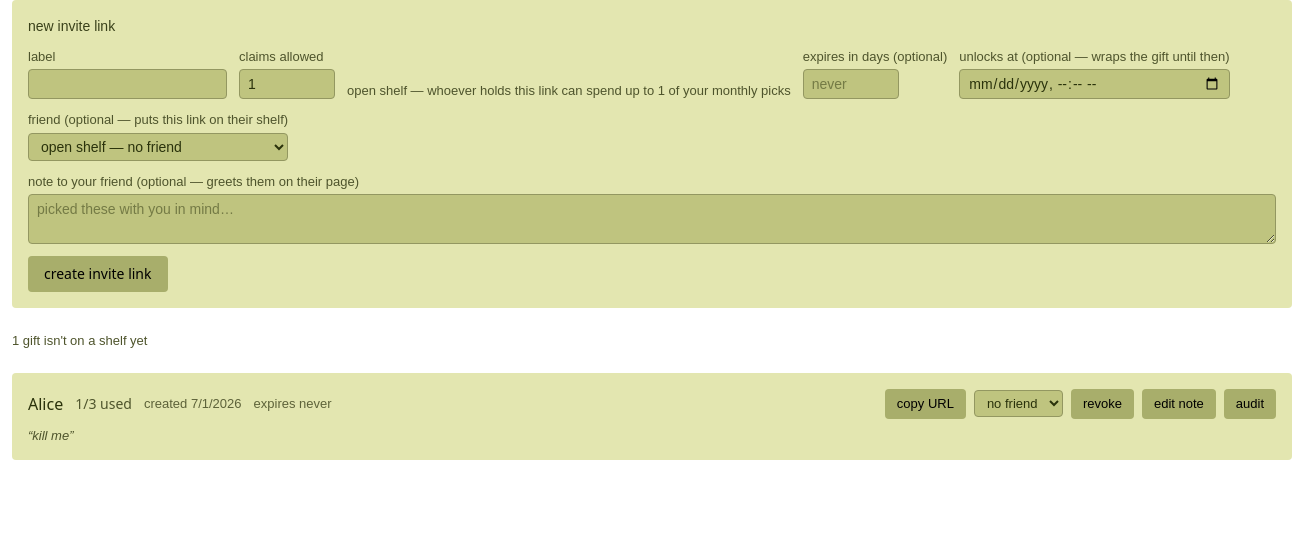
Test: Links › note editing › offers "add note" on a note-less link and a blank save clears
Click the button with aria-label "edit note for Alice": click(1179, 404) x1=1142 y1=389 x2=1216 y2=419
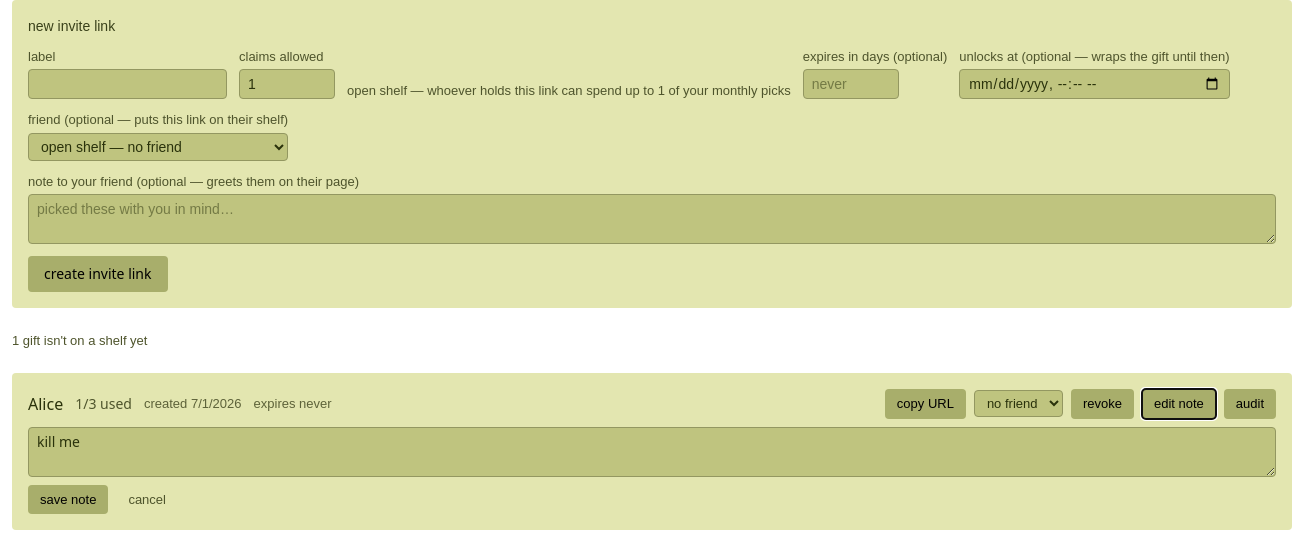
Clear the text box named "note for Alice": (652, 452) x1=28 y1=427 x2=1276 y2=477
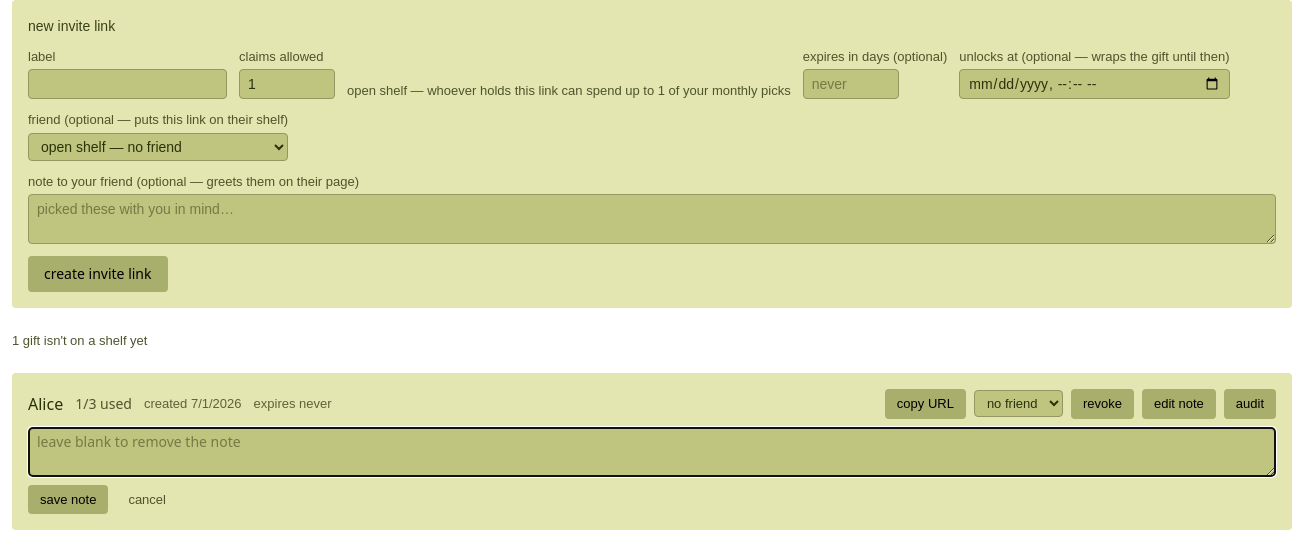
Click the button with aria-label "save note for Alice": click(68, 499) x1=28 y1=485 x2=108 y2=514
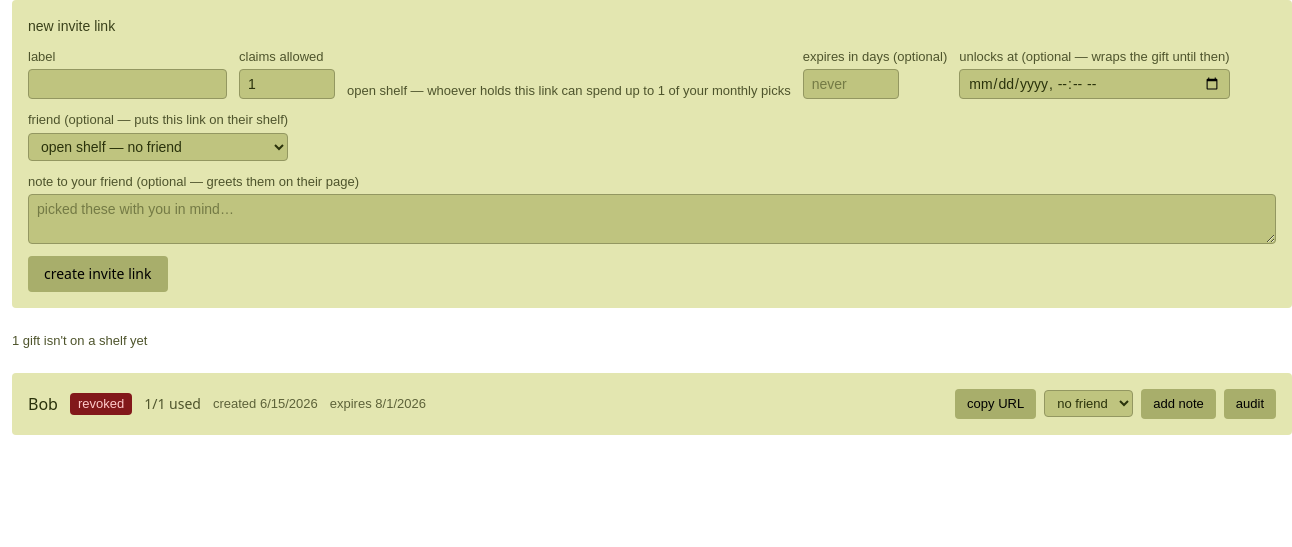
Result: the button with aria-label "add note for Bob" is shown at x1=1141 y1=389 x2=1216 y2=419
